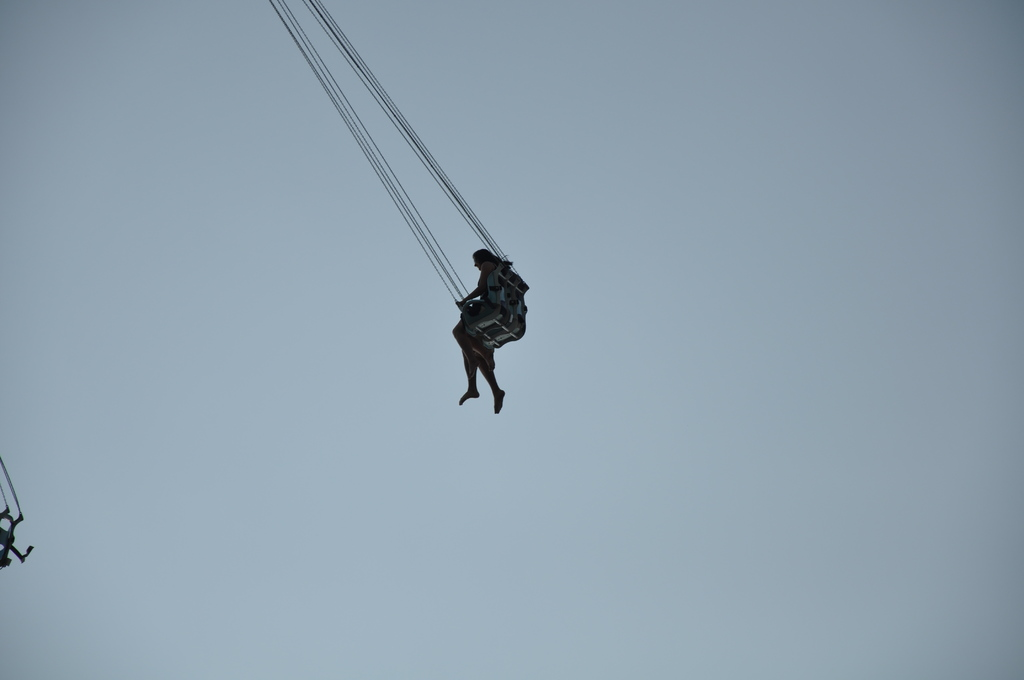Person: (452, 248, 529, 414)
